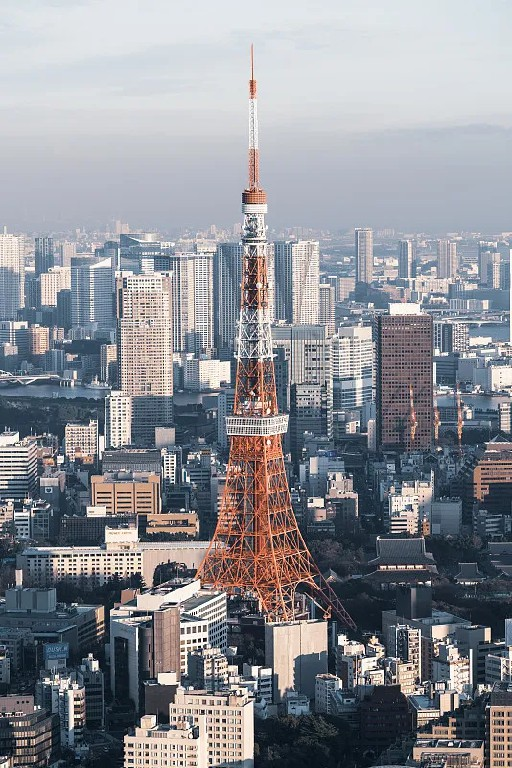Tokyo: (195, 41, 352, 628)
